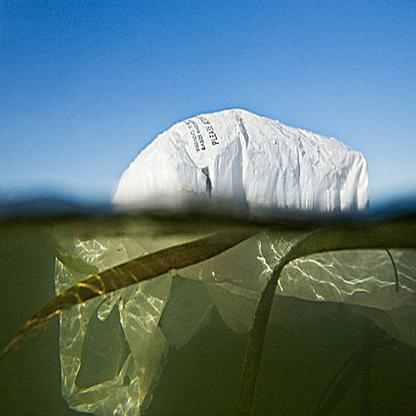plastic bag: (52, 108, 411, 416)
